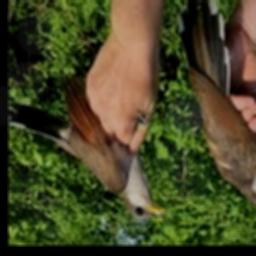Cuckoo: (8, 72, 165, 220), (179, 0, 256, 207)
